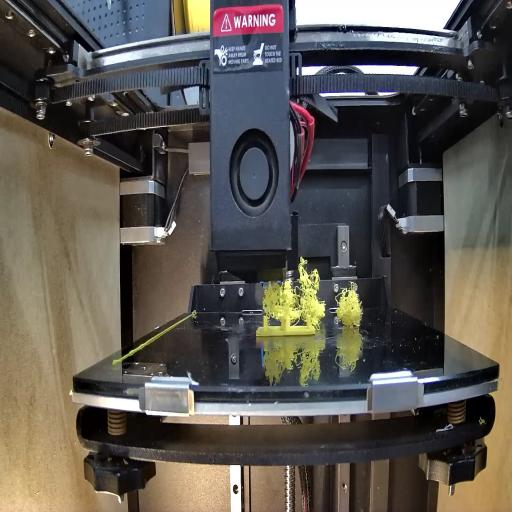spaghetti: (260, 254, 328, 322), (338, 289, 364, 330)
